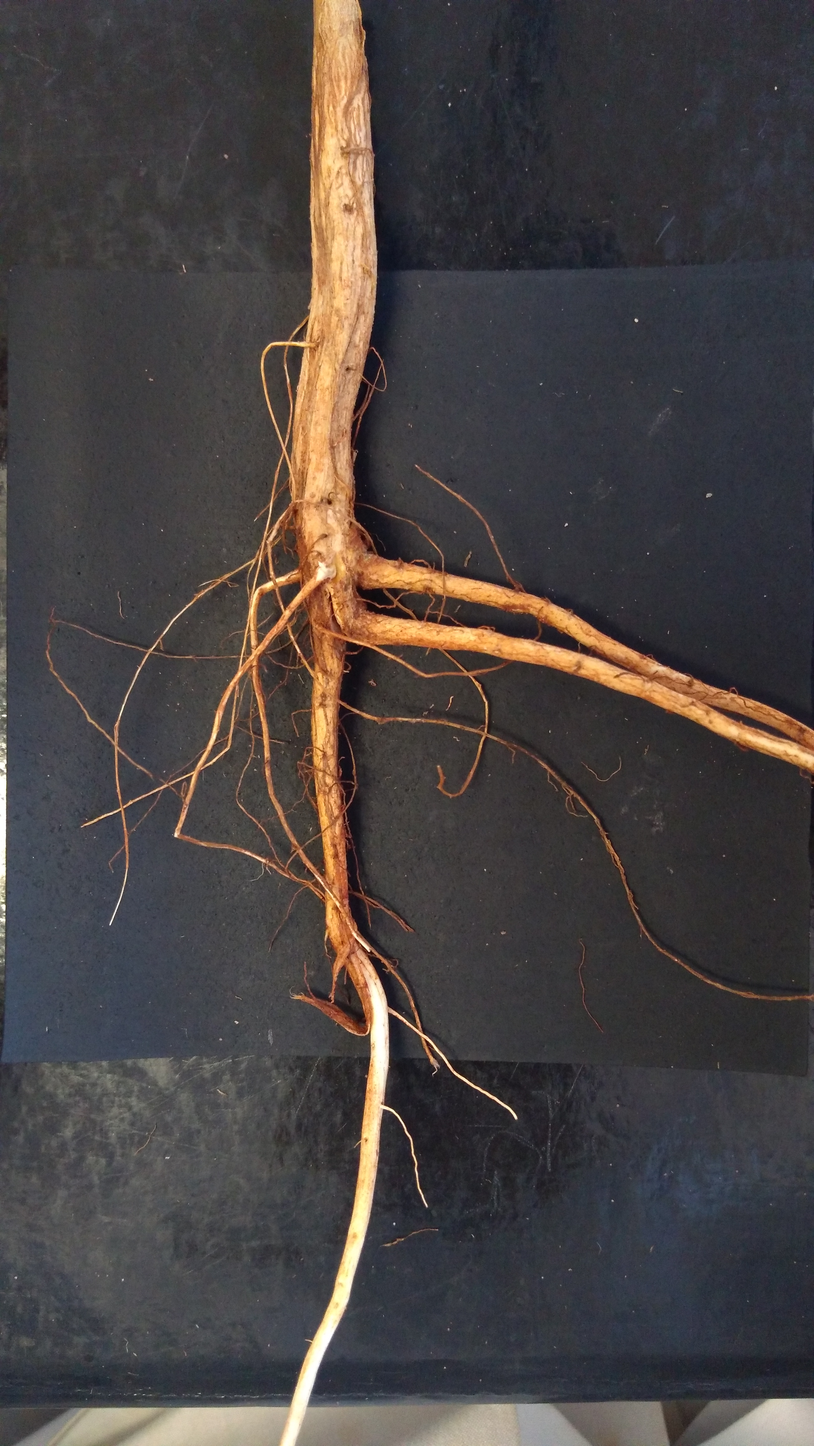nodule: (316, 559, 337, 583)
